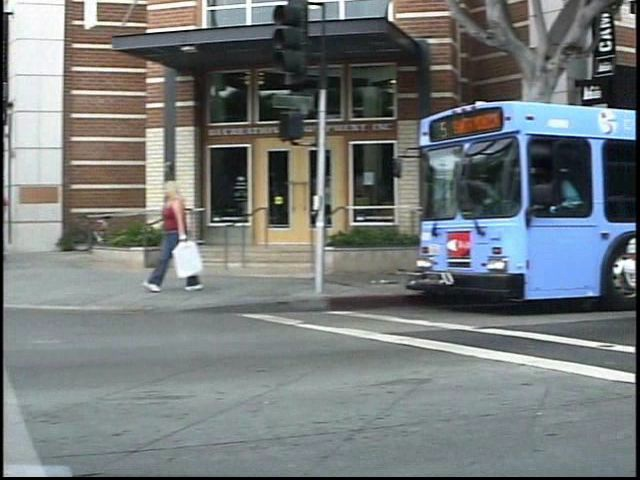person: (154, 178, 211, 299)
